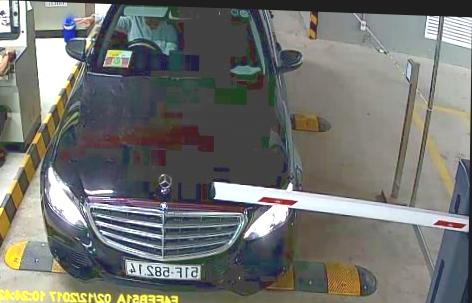License_Plate: (122, 254, 202, 287)
